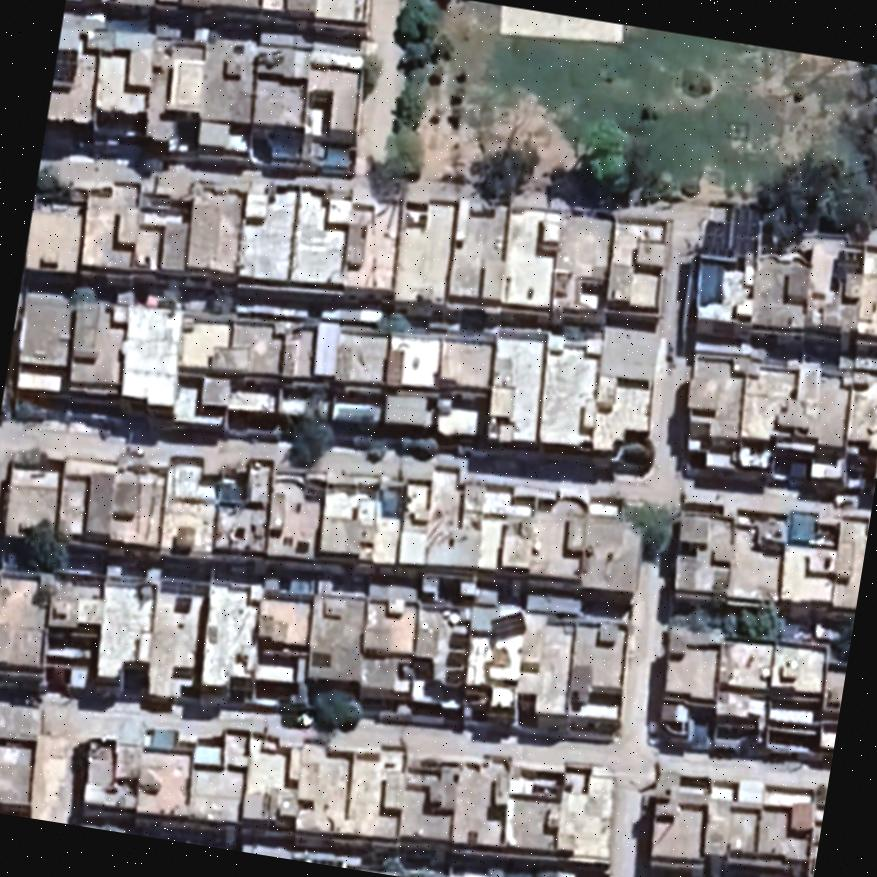Solarpanel: (701, 203, 758, 261), (486, 610, 525, 643), (51, 47, 81, 88)
